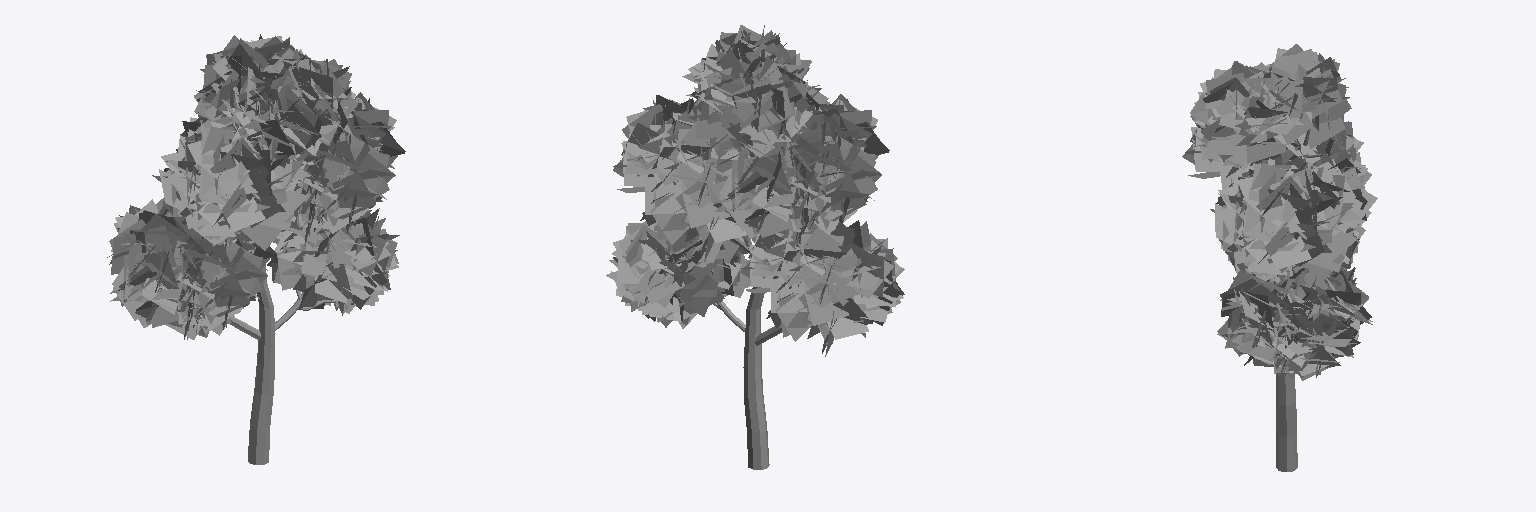
Rendered from NormalTree_2.obj.
3 views of the same model, side by side, from view 1: azimuth 30°, elevation 25°; view 2: azimuth 150°, elevation 25°; view 3: azimuth 270°, elevation 25° (orthographic).
Parts seen in each view (by area): view 1: NormalTree_2_Cylinder.004; view 2: NormalTree_2_Cylinder.004; view 3: NormalTree_2_Cylinder.004.
Boxes of the visible parts, x1=… form: NormalTree_2_Cylinder.004: x1=107, y1=34, x2=405, y2=464; NormalTree_2_Cylinder.004: x1=606, y1=25, x2=904, y2=469; NormalTree_2_Cylinder.004: x1=1182, y1=44, x2=1377, y2=471.
Bounding box in the file's own units: 4.55 × 6.56 × 2.79.